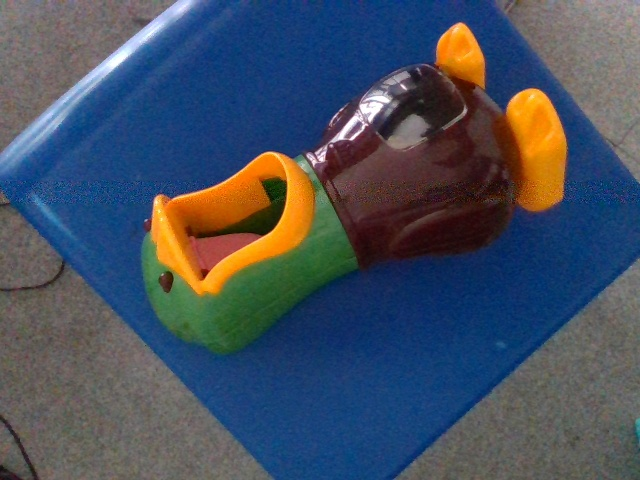toy: (141, 22, 568, 359)
